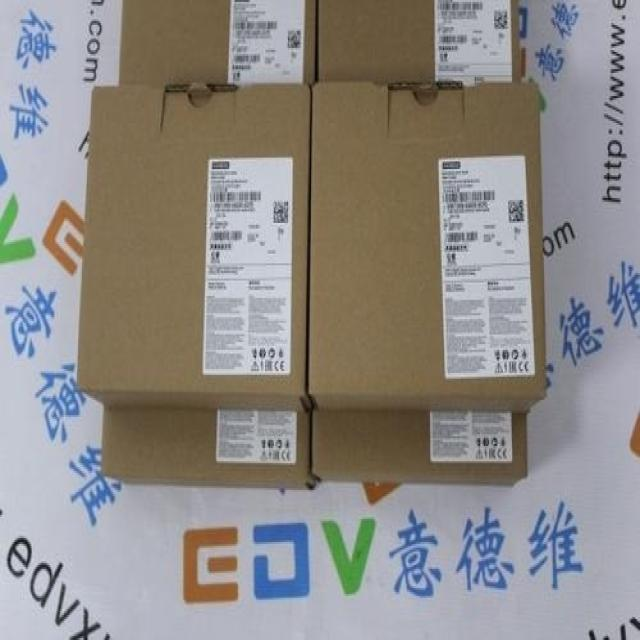box: (307, 81, 545, 413), (77, 85, 311, 411), (102, 407, 317, 490), (319, 0, 522, 83), (119, 0, 316, 85), (312, 409, 527, 486)
